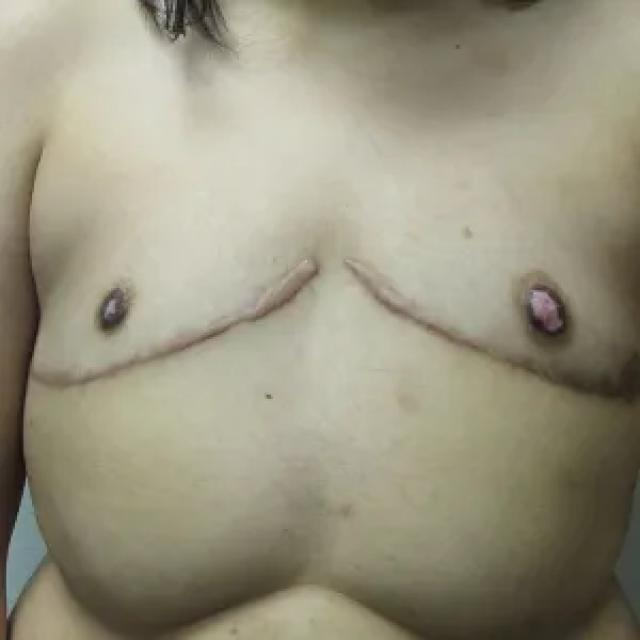Seno herido: (334, 200, 639, 420), (21, 200, 330, 409)
